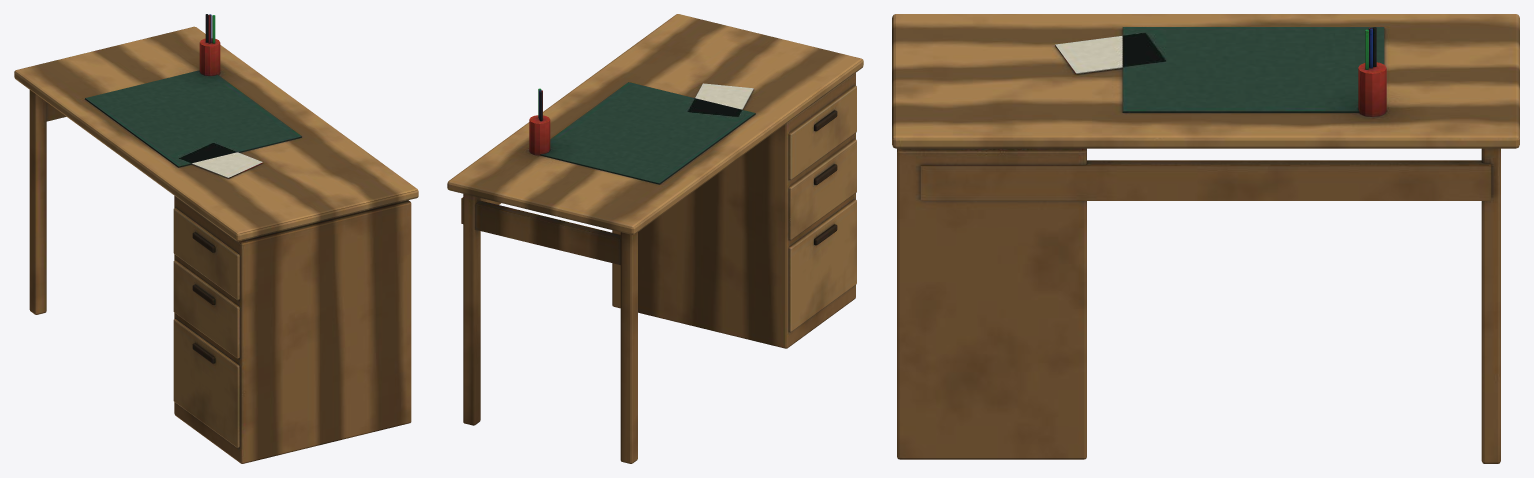
Rendered from sz_tisch.glb.
The picture shows the model from 3 angles, left to right: view 1: azimuth 30°, elevation 25°; view 2: azimuth 150°, elevation 25°; view 3: azimuth 270°, elevation 25°; orthographic projection. The views are drawn at different scales.
Visible parts, largest first — view 1: sz_tisch; view 2: sz_tisch; view 3: sz_tisch.
Part boxes in pixels (x1=…): sz_tisch: x1=14, y1=14, x2=418, y2=463; sz_tisch: x1=447, y1=14, x2=863, y2=463; sz_tisch: x1=892, y1=14, x2=1519, y2=463.
Bounding box in the file's own units: 0.62 × 0.965 × 1.32.
1 material, 1 textured.
